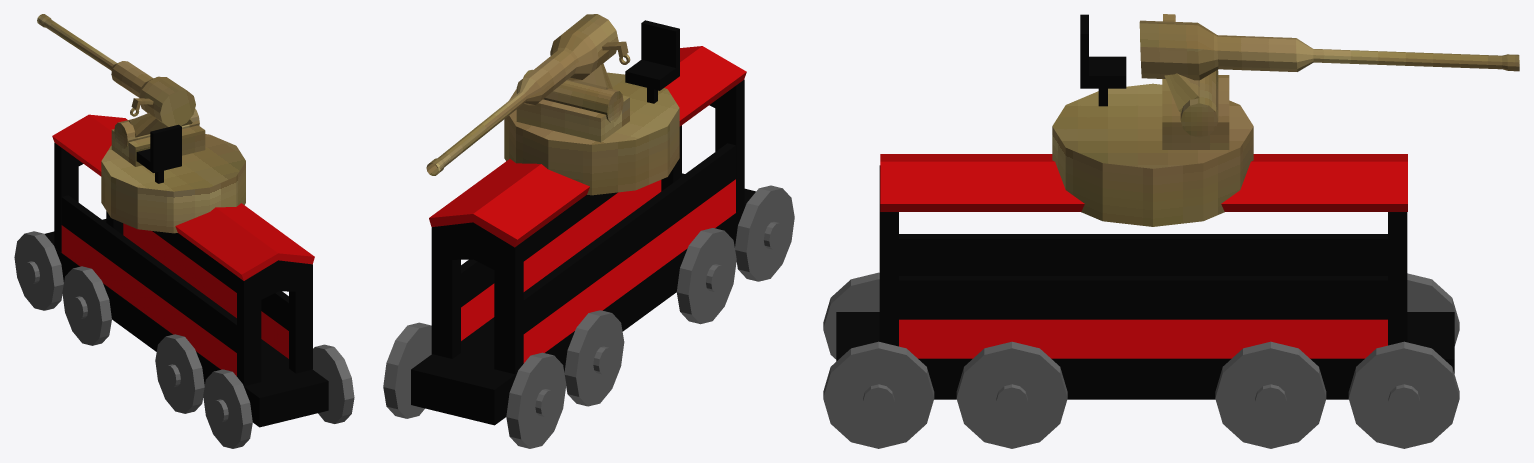
Rendered from guncar.glb.
The picture shows the model from 3 angles, left to right: view 1: azimuth 30°, elevation 25°; view 2: azimuth 150°, elevation 25°; view 3: azimuth 270°, elevation 25°; orthographic projection. The views are drawn at different scales.
Visible parts, largest first — view 1: BaseCarSides.002, TurretBase.003, BaseCarFrontWheels.002, BaseCarBase.002, BaseCarFront.002, BaseCarBackWheels.002, BaseCarTop.003, Gun.003, BaseCarTop.002, BaseCarBack.002, GunSeat.003, GunBase.003 (+2 smaller); view 2: BaseCarSides.002, BaseCarBackWheels.002, TurretBase.003, BaseCarBase.002, BaseCarBack.002, BaseCarFrontWheels.002, BaseCarTop.002, Gun.003, BaseCarTop.003, GunBase.003, GunSeat.003, BaseCarFront.002 (+2 smaller); view 3: BaseCarSides.002, BaseCarFrontWheels.002, BaseCarBackWheels.002, TurretBase.003, BaseCarBase.002, BaseCarTop.003, Gun.003, BaseCarTop.002, BaseCarFront.002, BaseCarBack.002, GunBase.003, GunSeat.003 (+2 smaller).
Boxes of the visible parts, bbox=[...] form: BaseCarSides.002: bbox=[61, 195, 288, 376]; TurretBase.003: bbox=[101, 134, 245, 233]; BaseCarFrontWheels.002: bbox=[155, 334, 354, 448]; BaseCarBase.002: bbox=[45, 219, 328, 427]; BaseCarFront.002: bbox=[237, 260, 312, 385]; BaseCarBackWheels.002: bbox=[14, 231, 111, 345]; BaseCarTop.003: bbox=[175, 203, 314, 280]; Gun.003: bbox=[37, 14, 195, 126]; BaseCarTop.002: bbox=[52, 114, 127, 176]; BaseCarBack.002: bbox=[54, 142, 123, 252]; GunSeat.003: bbox=[136, 124, 181, 172]; GunBase.003: bbox=[111, 125, 205, 166]; BaseCarSides.002: bbox=[461, 143, 735, 363]; BaseCarBackWheels.002: bbox=[383, 310, 624, 448]; TurretBase.003: bbox=[504, 72, 679, 195]; BaseCarBase.002: bbox=[411, 173, 755, 425]; BaseCarBack.002: bbox=[431, 222, 523, 374]; BaseCarFrontWheels.002: bbox=[676, 185, 794, 324]; BaseCarTop.002: bbox=[429, 159, 589, 247]; Gun.003: bbox=[426, 14, 628, 175]; BaseCarTop.003: bbox=[664, 46, 746, 126]; GunBase.003: bbox=[516, 95, 629, 142]; GunSeat.003: bbox=[625, 20, 679, 90]; BaseCarFront.002: bbox=[661, 79, 744, 212]; BaseCarSides.002: bbox=[899, 234, 1387, 358]; BaseCarFrontWheels.002: bbox=[823, 272, 1067, 448]; BaseCarBackWheels.002: bbox=[1215, 273, 1459, 448]; TurretBase.003: bbox=[1052, 83, 1253, 226]; BaseCarBase.002: bbox=[836, 312, 1454, 399]; BaseCarTop.003: bbox=[880, 154, 1084, 211]; Gun.003: bbox=[1139, 14, 1519, 80]; BaseCarTop.002: bbox=[1221, 154, 1407, 211]; BaseCarFront.002: bbox=[879, 165, 898, 346]; BaseCarBack.002: bbox=[1388, 212, 1407, 345]; GunBase.003: bbox=[1162, 75, 1229, 149]; GunSeat.003: bbox=[1080, 14, 1126, 88].
Size of the model in its own units: 3.75 by 7.61 by 12.54.
Materials: 5 (3 with a texture image).
